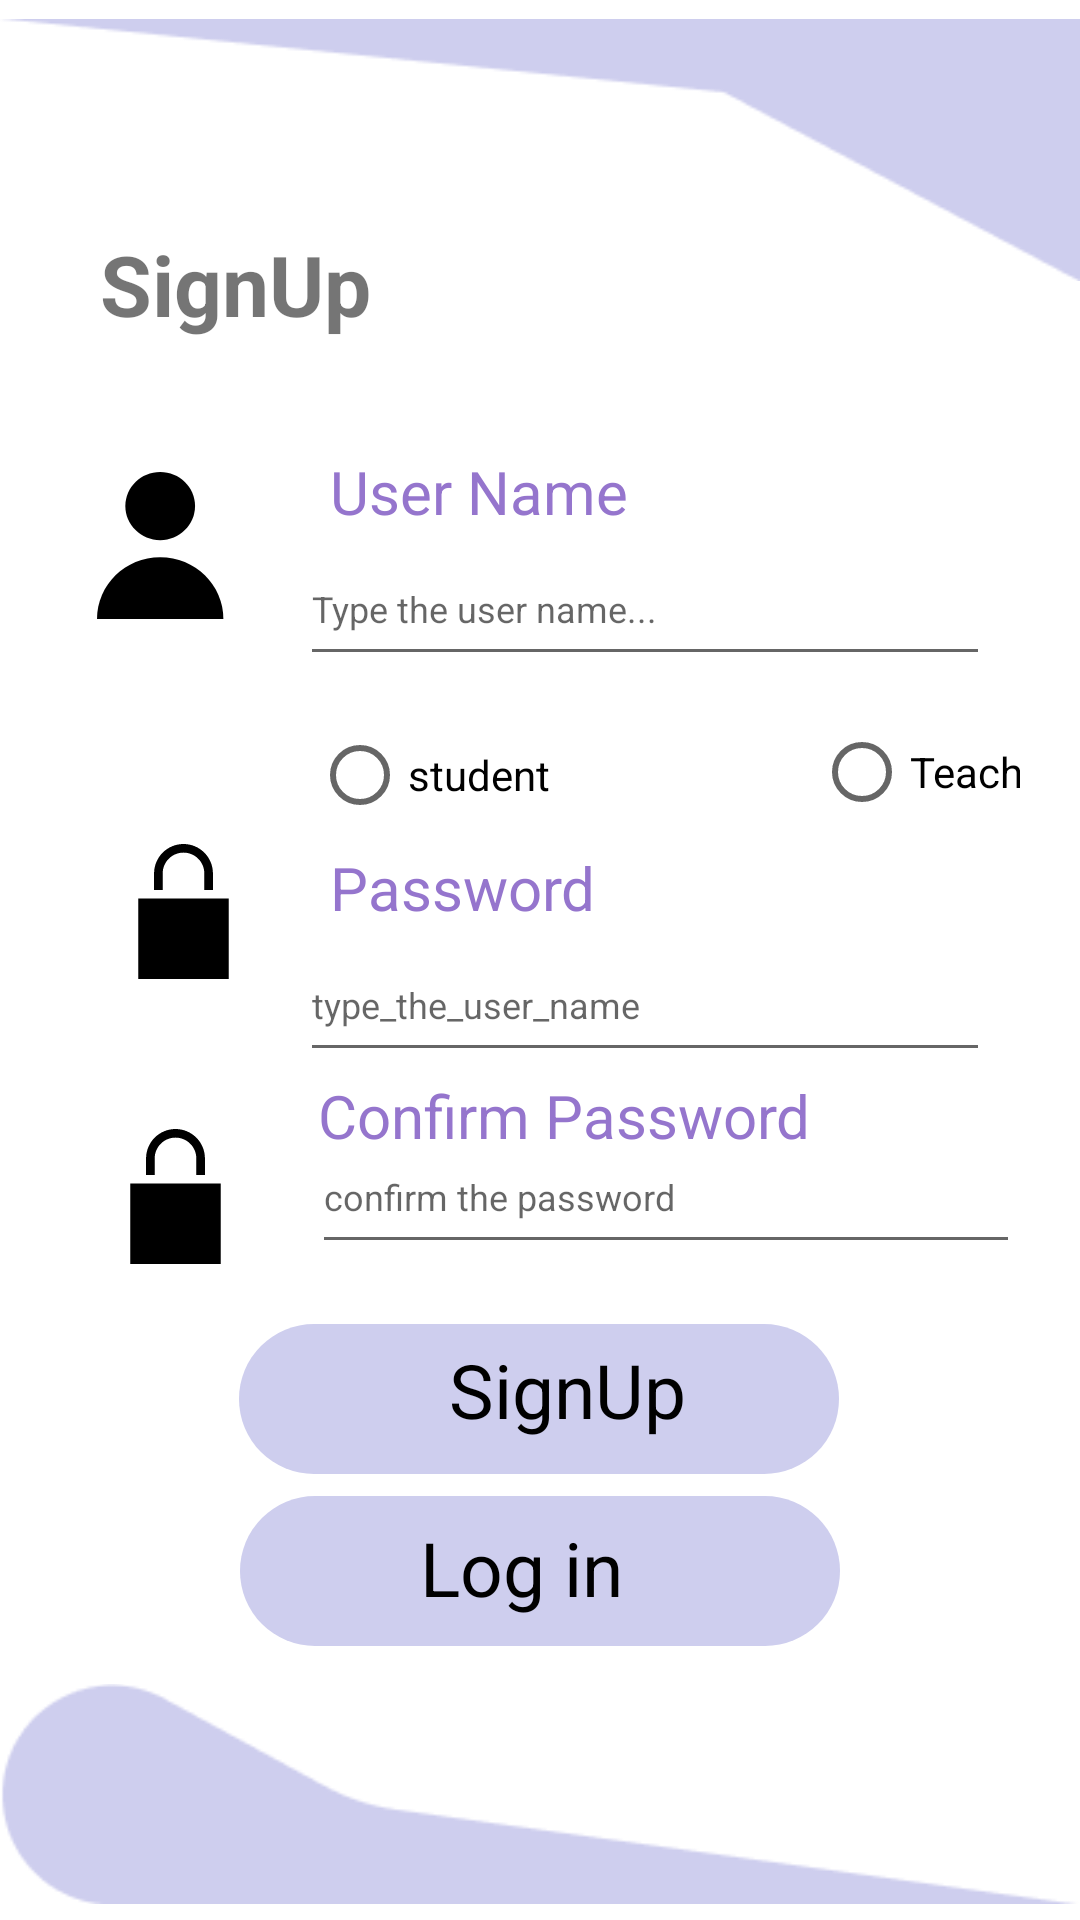

Icons on this 1080x1920 Android screen, each with the point to tap as [x,y]:
lock: [183,911], [175,1196]
